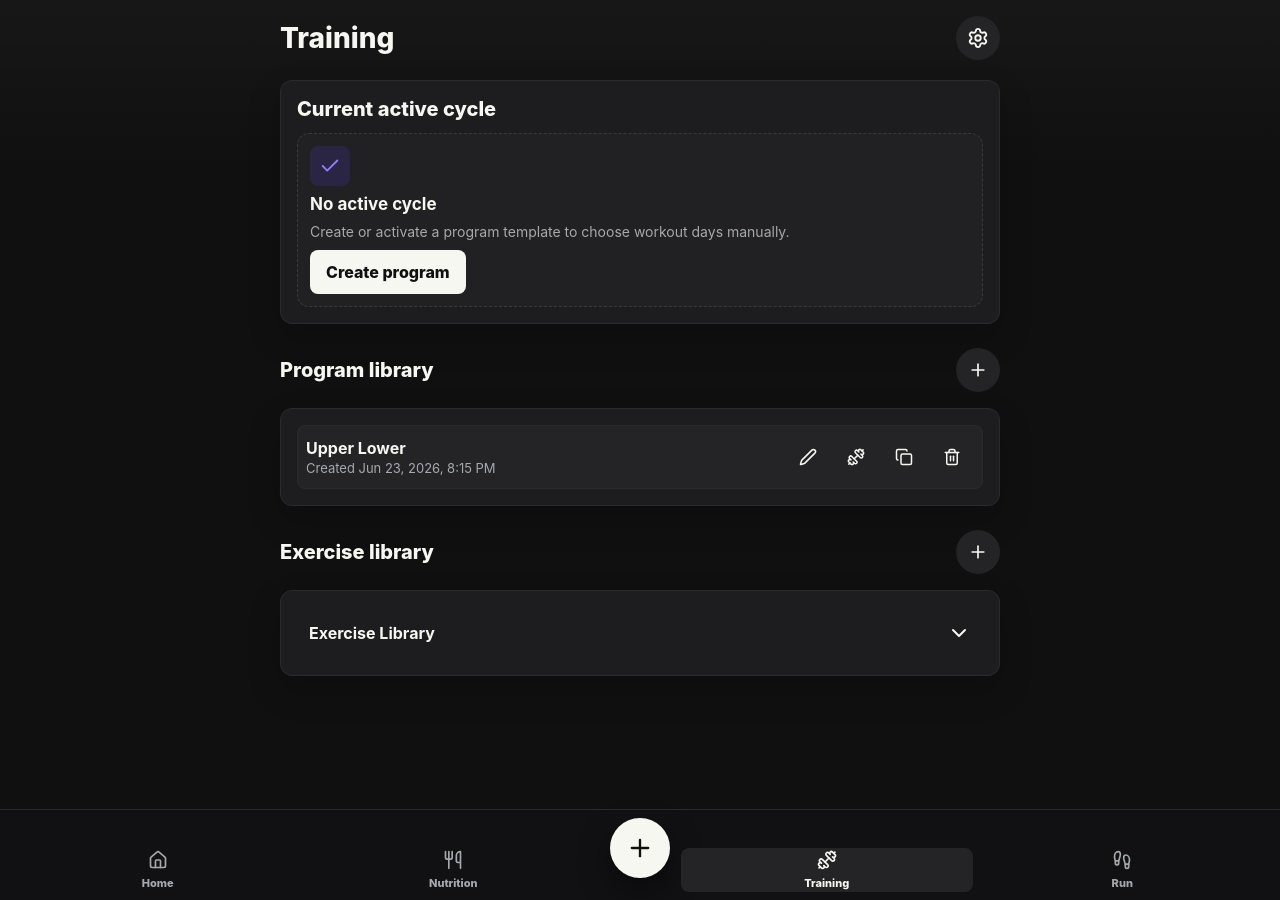
it: TrainingPage › permanently deletes inactive templates from the library after two confirmations
Expected: the text "Upper Lower" is shown, top-left (306, 438), bottom-right (406, 458)
Click the button named "Delete Upper Lower". click: (952, 457)
box: top-left (930, 435), bottom-right (974, 479)
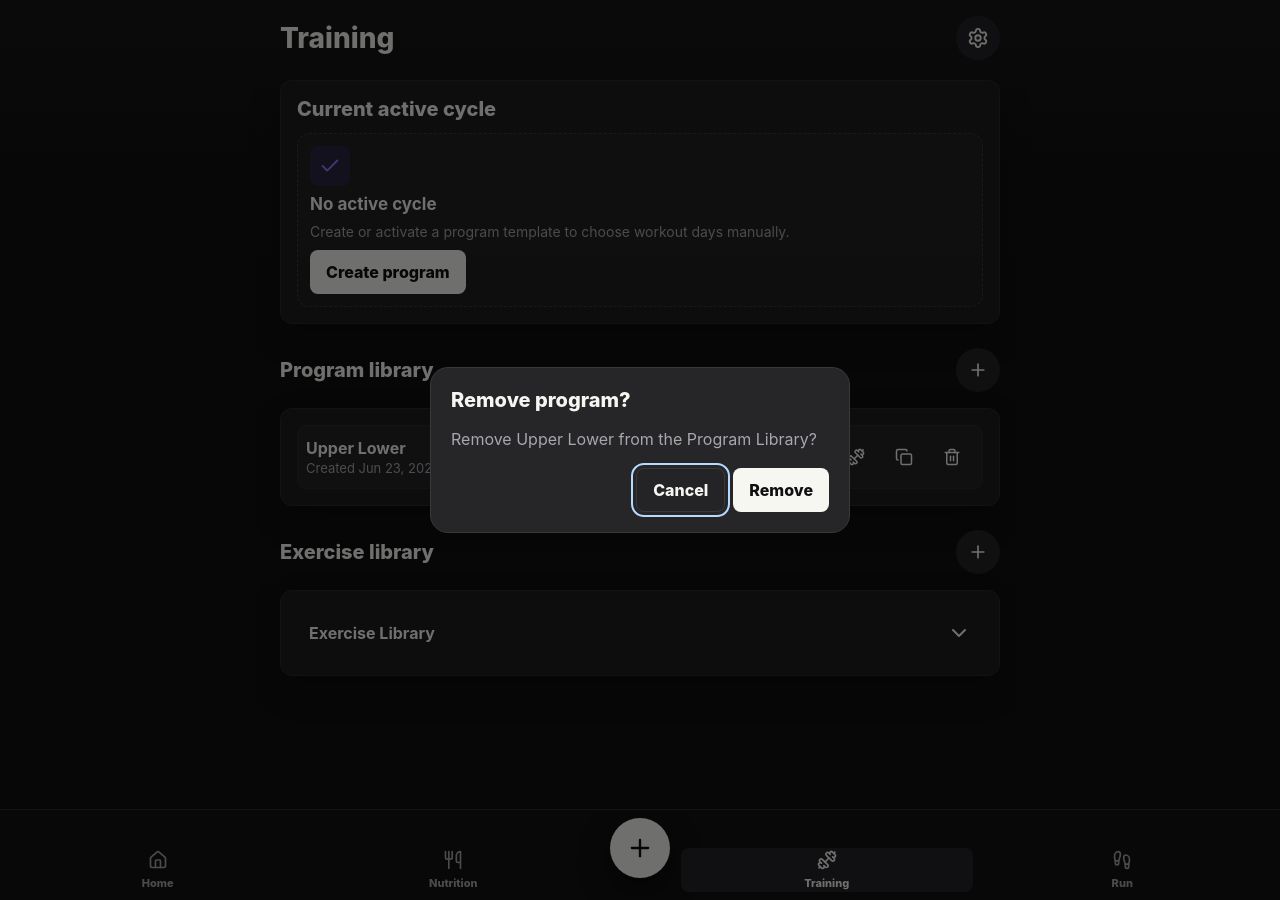
Click the button "Remove". click: (781, 490)
box: top-left (733, 468), bottom-right (829, 512)
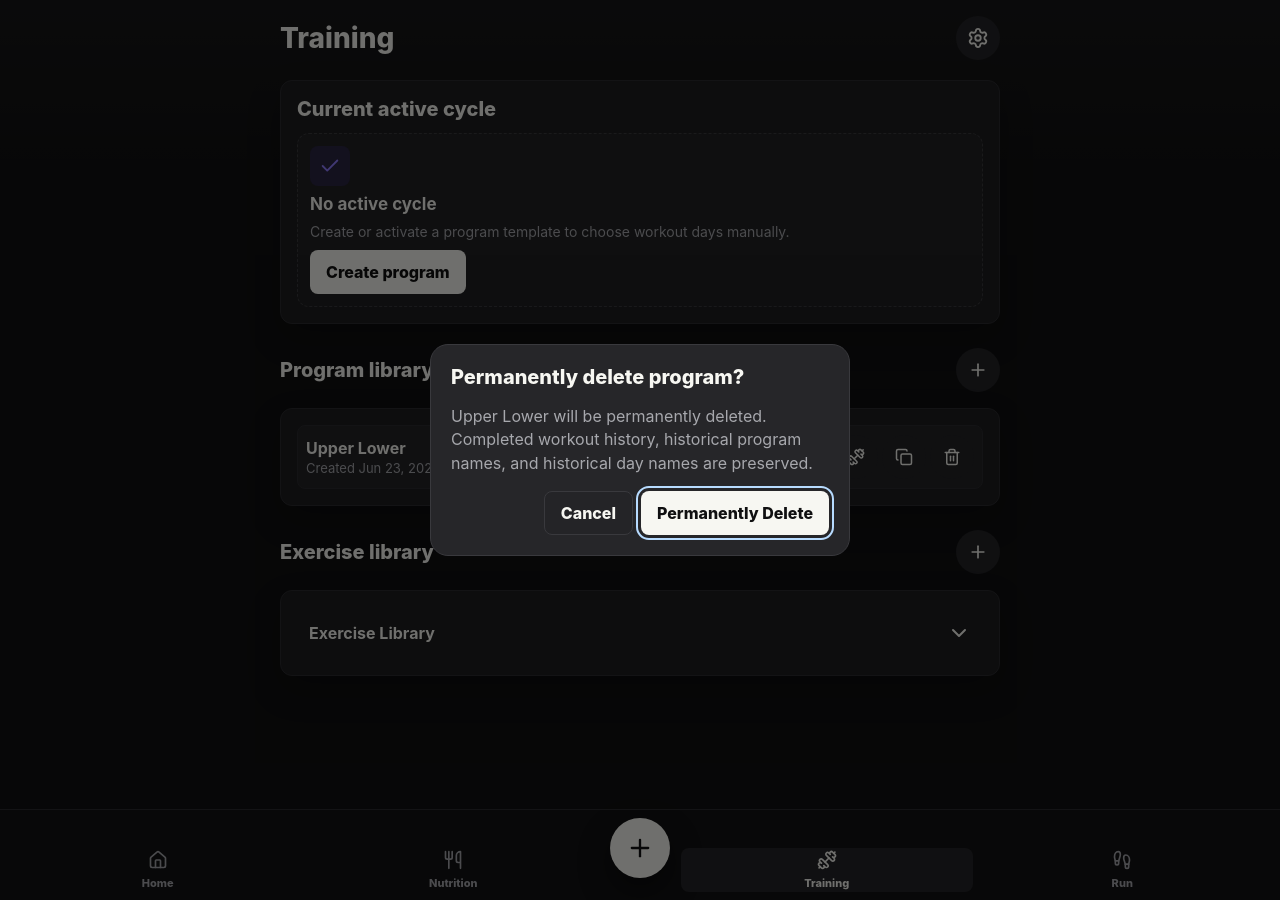
Click the button "Permanently Delete". click: (735, 513)
box: top-left (641, 491), bottom-right (829, 535)
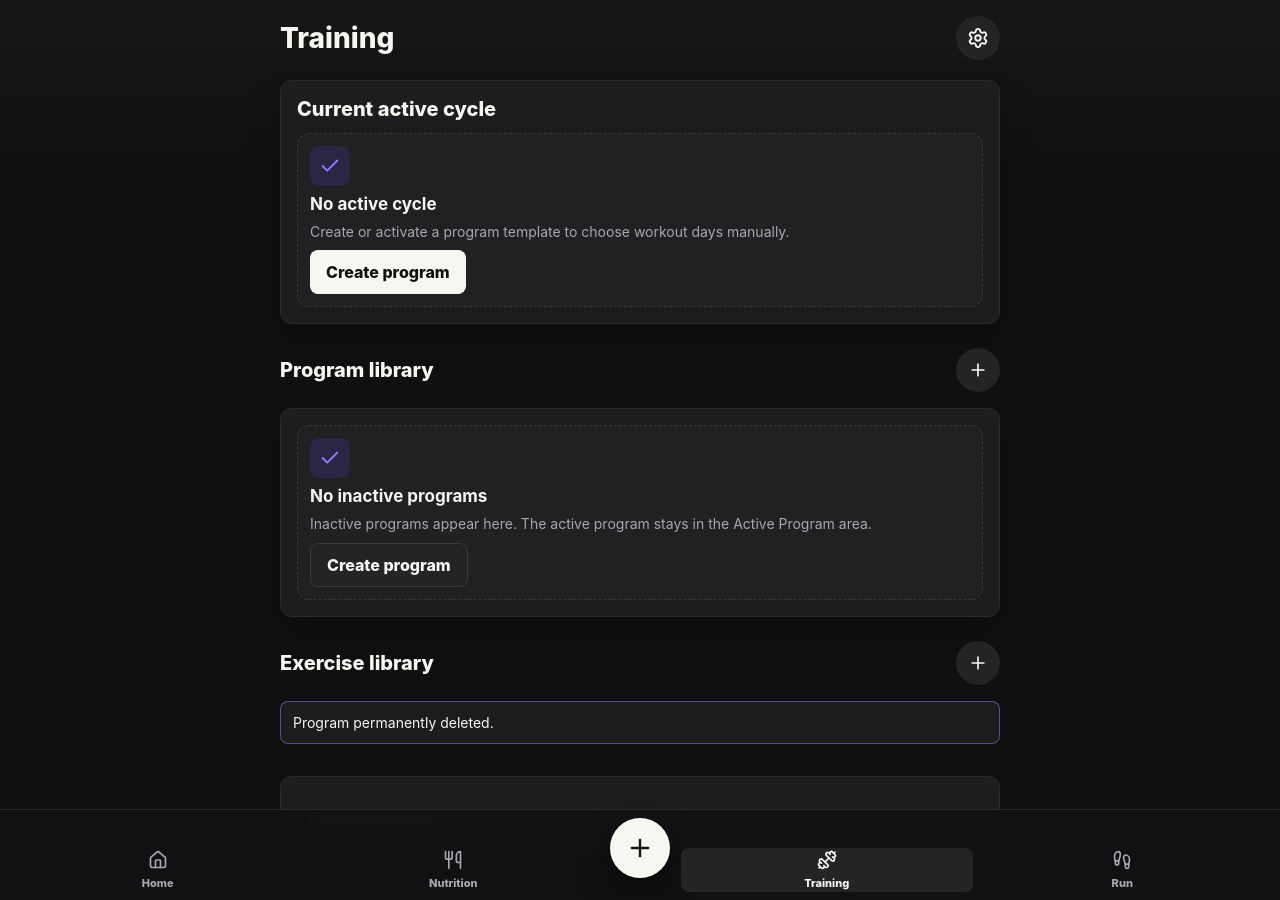
Expected: the text "Upper Lower" is gone
Expected: the heading "No inactive programs" is shown, top-left (310, 486), bottom-right (487, 506)
